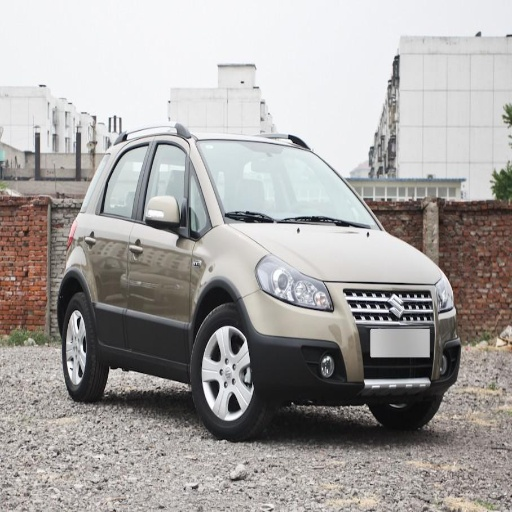front_bumper: (245, 281, 457, 405)
front_right_door: (126, 135, 208, 361)
front_right_light: (257, 256, 334, 310)
